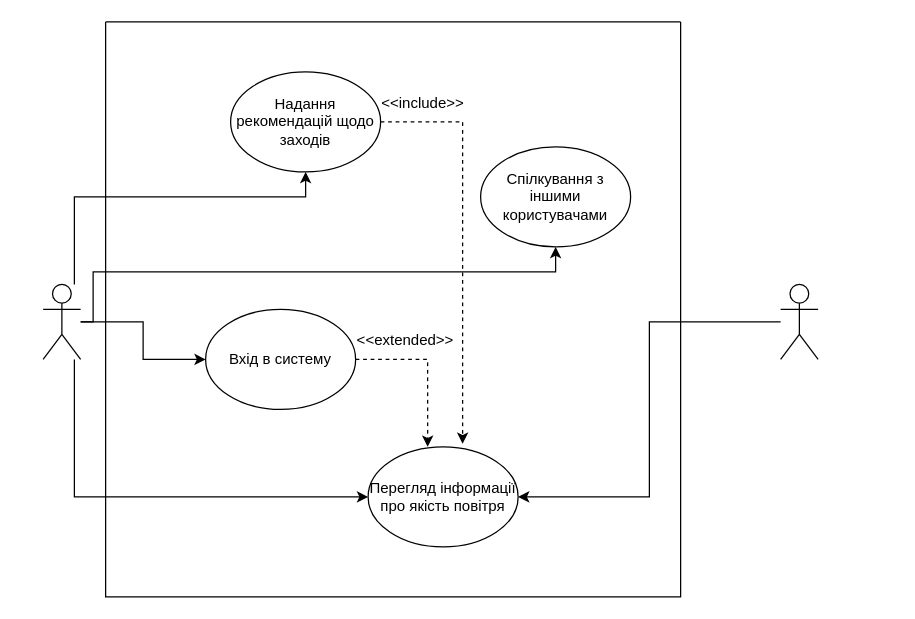
Image size: 915x619. Some labels were removed from this diagram. The shapes that lost their labels are listed below. From the top down, each one's centre as x and y in pixels, then its label:
the point at 61,321: Користувач
the point at 798,321: Метеослужба "WeatherAPI"
